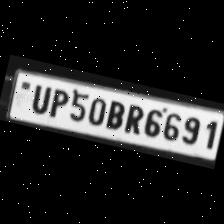0: (83, 94, 108, 128)
1: (196, 116, 222, 151)
5: (64, 88, 91, 124)
6: (139, 105, 164, 139), (159, 108, 184, 142)
9: (177, 111, 203, 146)
B: (102, 98, 127, 132)
P: (44, 84, 70, 119)
R: (120, 100, 146, 136)
U: (25, 81, 52, 116)
